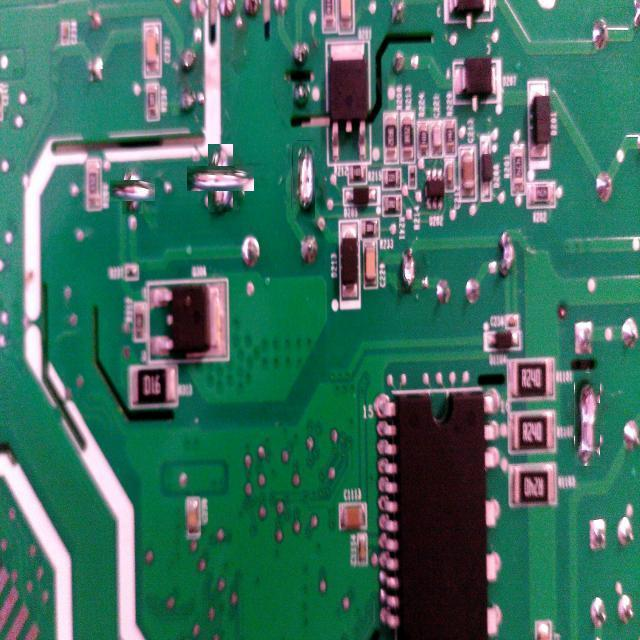Short_circuit: (574, 372, 600, 466), (197, 155, 244, 202), (292, 140, 315, 221), (116, 174, 149, 208)
